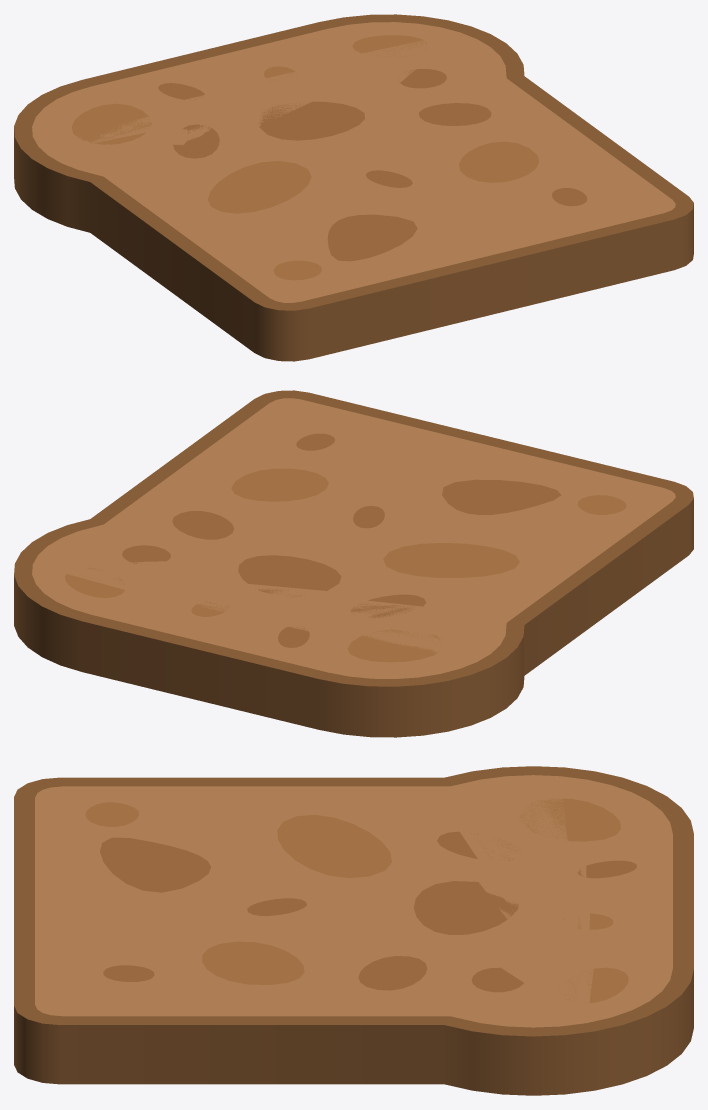
File: Bread F.fbx
3 views of the same model, one above another, from view 1: azimuth 30°, elevation 25°; view 2: azimuth 150°, elevation 25°; view 3: azimuth 270°, elevation 25° (orthographic). The views are drawn at different scales.
Visible parts, largest first — view 1: Bread F; view 2: Bread F; view 3: Bread F.
Boxes of the visible parts, x1,y1,x2,y2 form: Bread F: (14, 14, 693, 361); Bread F: (14, 390, 693, 737); Bread F: (14, 766, 693, 1095).
Size of the model in its own units: 0.6767 by 0.0692 by 0.7193.
